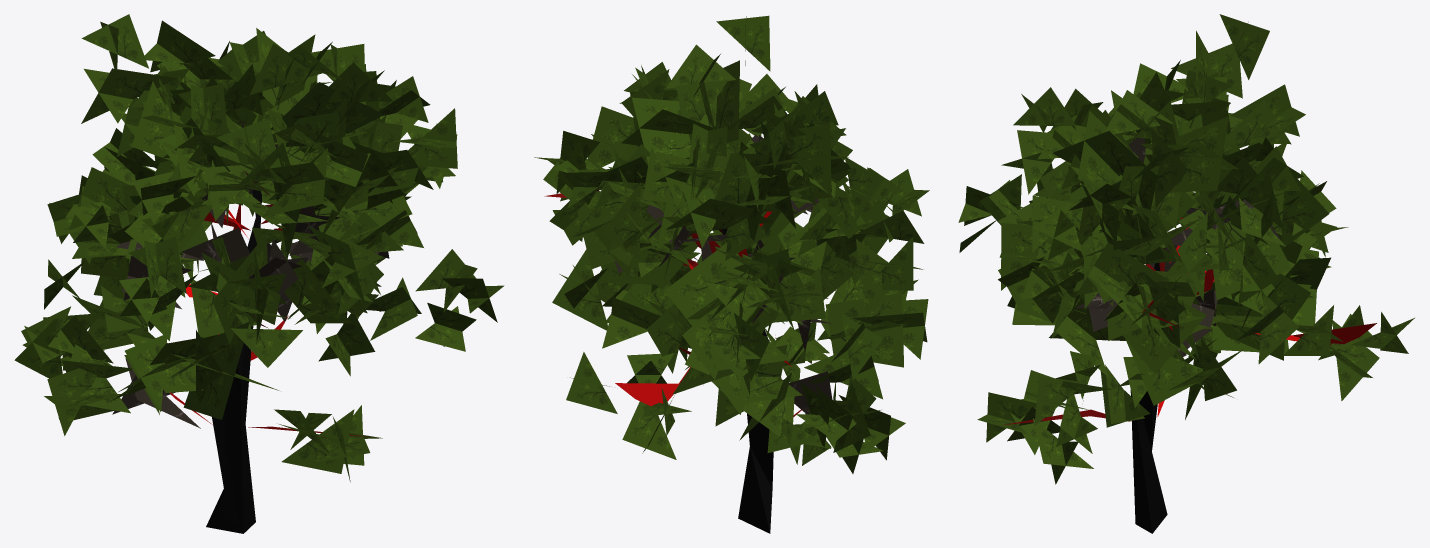
The model's file is oak2 lod4.FBX.
The picture shows the model from 3 angles, left to right: view 1: azimuth 30°, elevation 25°; view 2: azimuth 150°, elevation 25°; view 3: azimuth 270°, elevation 25°; orthographic projection. The views are drawn at different scales.
Visible parts, largest first — view 1: oak2_LOD4; view 2: oak2_LOD4; view 3: oak2_LOD4.
Boxes of the visible parts, left/top/right/bottom form: oak2_LOD4: left=14, top=14, right=504, bottom=533; oak2_LOD4: left=534, top=15, right=929, bottom=533; oak2_LOD4: left=958, top=14, right=1414, bottom=533.
Bounding box in the file's own units: 99338 × 118777 × 104173.
